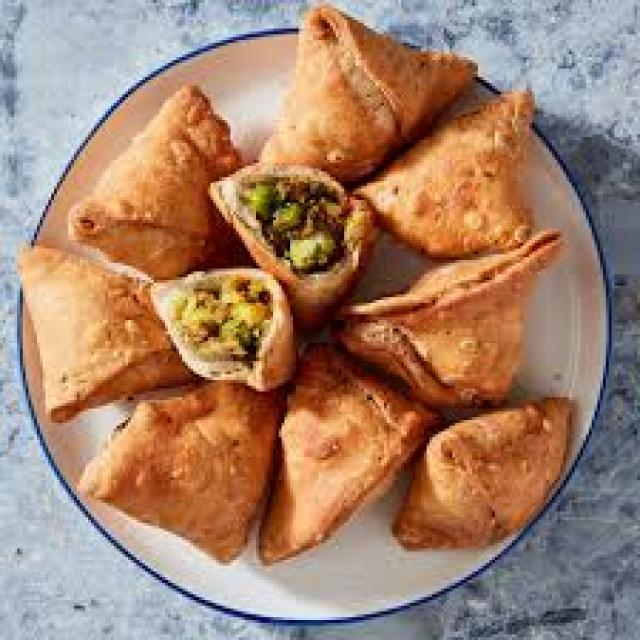SAMOSA: (270, 325, 447, 562), (336, 229, 562, 413), (63, 75, 252, 273), (84, 378, 277, 563), (266, 7, 484, 161), (343, 82, 538, 252), (19, 253, 208, 425), (395, 388, 578, 552), (211, 166, 366, 284), (156, 272, 294, 379)
